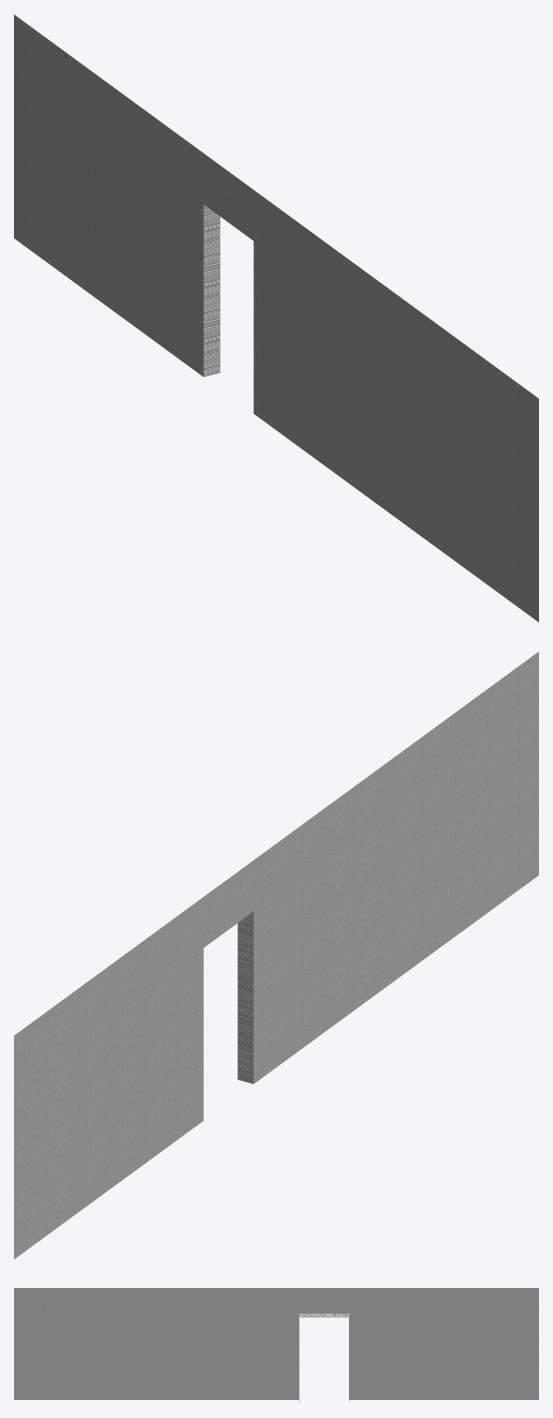
The model's file is Wall.fbx.
3 views of the same model, one above another, from view 1: azimuth 30°, elevation 25°; view 2: azimuth 150°, elevation 25°; view 3: azimuth 270°, elevation 25° (orthographic). The views are drawn at different scales.
Parts seen in each view (by area): view 1: Room1_Iso.001; view 2: Room1_Iso.001; view 3: Room1_Iso.001.
Part boxes in pixels (x1=…): Room1_Iso.001: x1=14, y1=14, x2=538, y2=622; Room1_Iso.001: x1=14, y1=651, x2=538, y2=1259; Room1_Iso.001: x1=14, y1=1288, x2=538, y2=1402.
Size of the model in its own units: 20.89 by 274 by 1163.
Materials: 1 (1 with a texture image).
